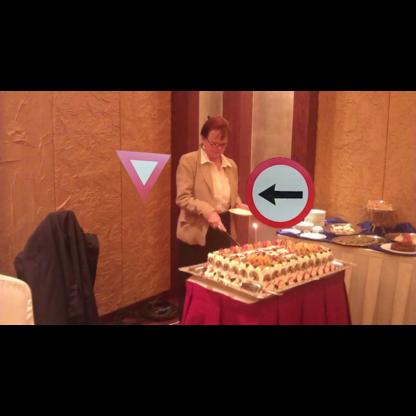R-2: (115, 150, 171, 202)
R-24a: (245, 157, 315, 228)
